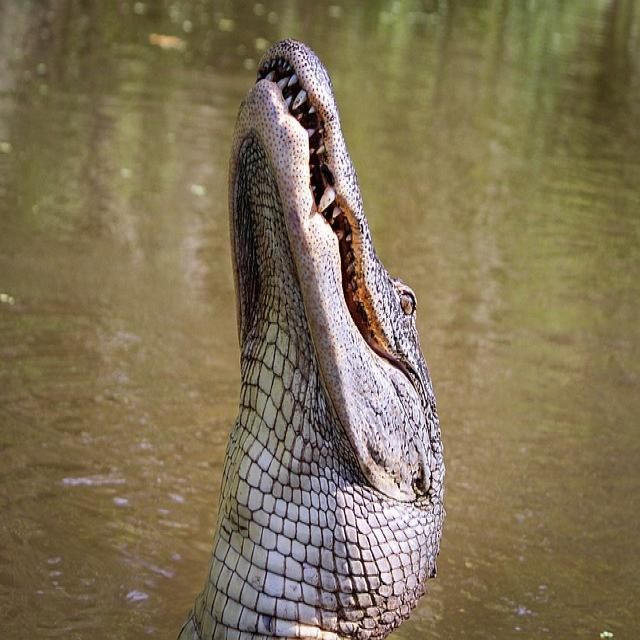Carnivorous: (177, 39, 446, 640)
